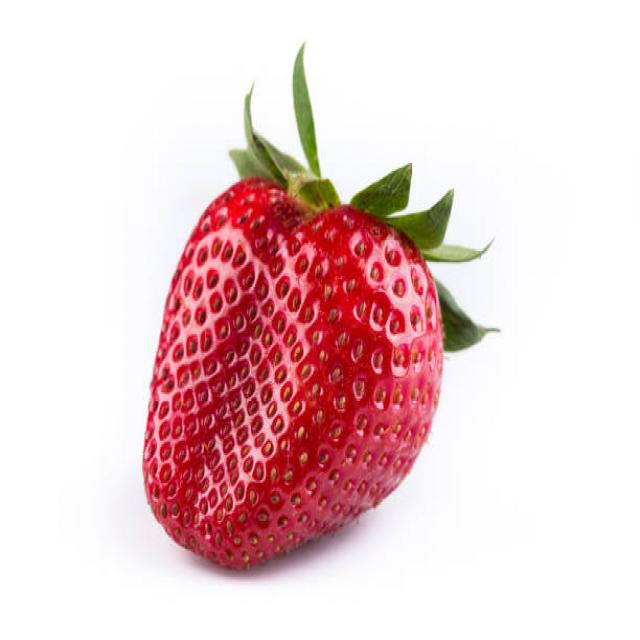Berries strawberries/blueberries: (136, 103, 474, 573)
